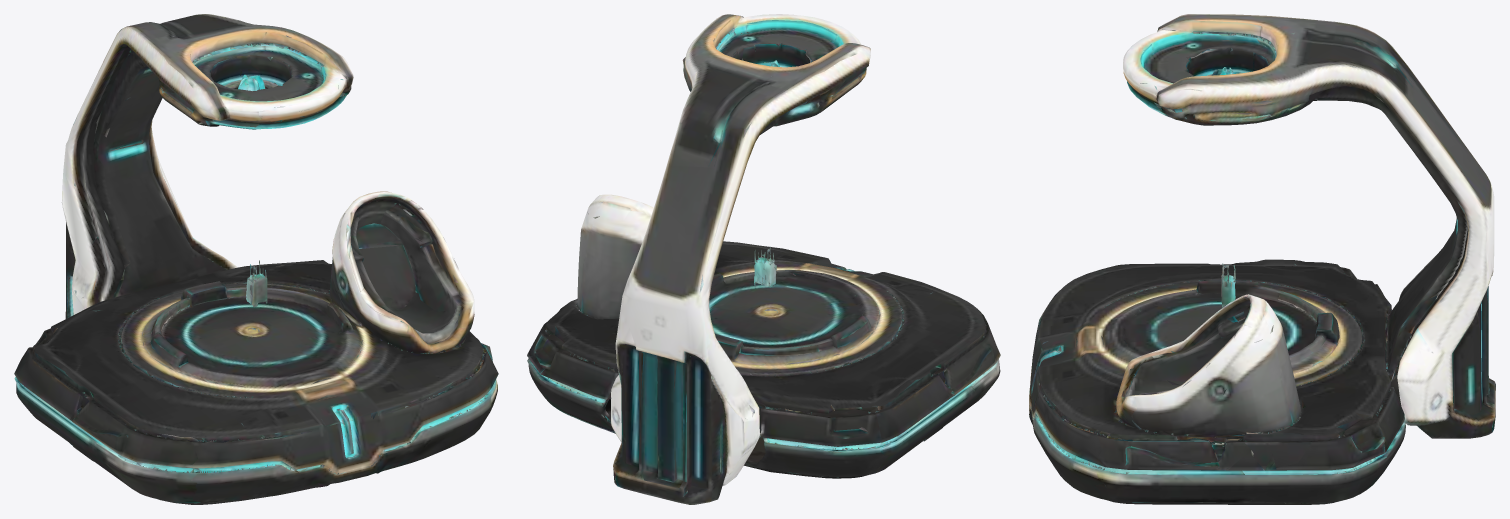
File: eoncity_eonbot_companion_dock.7f23aef5adfc.glb
3 renders of one model, left to right at view 1: azimuth 30°, elevation 25°; view 2: azimuth 150°, elevation 25°; view 3: azimuth 270°, elevation 25°, orthographic. The views are drawn at different scales.
Visible parts, largest first — view 1: Mesh1.0; view 2: Mesh1.0; view 3: Mesh1.0.
Boxes of the visible parts, x1=… form: Mesh1.0: x1=14, y1=14, x2=498, y2=504; Mesh1.0: x1=527, y1=14, x2=1000, y2=504; Mesh1.0: x1=1029, y1=14, x2=1495, y2=504.
Size of the model in its own units: 1.82 by 1.69 by 1.9.
1 material, 1 textured.
